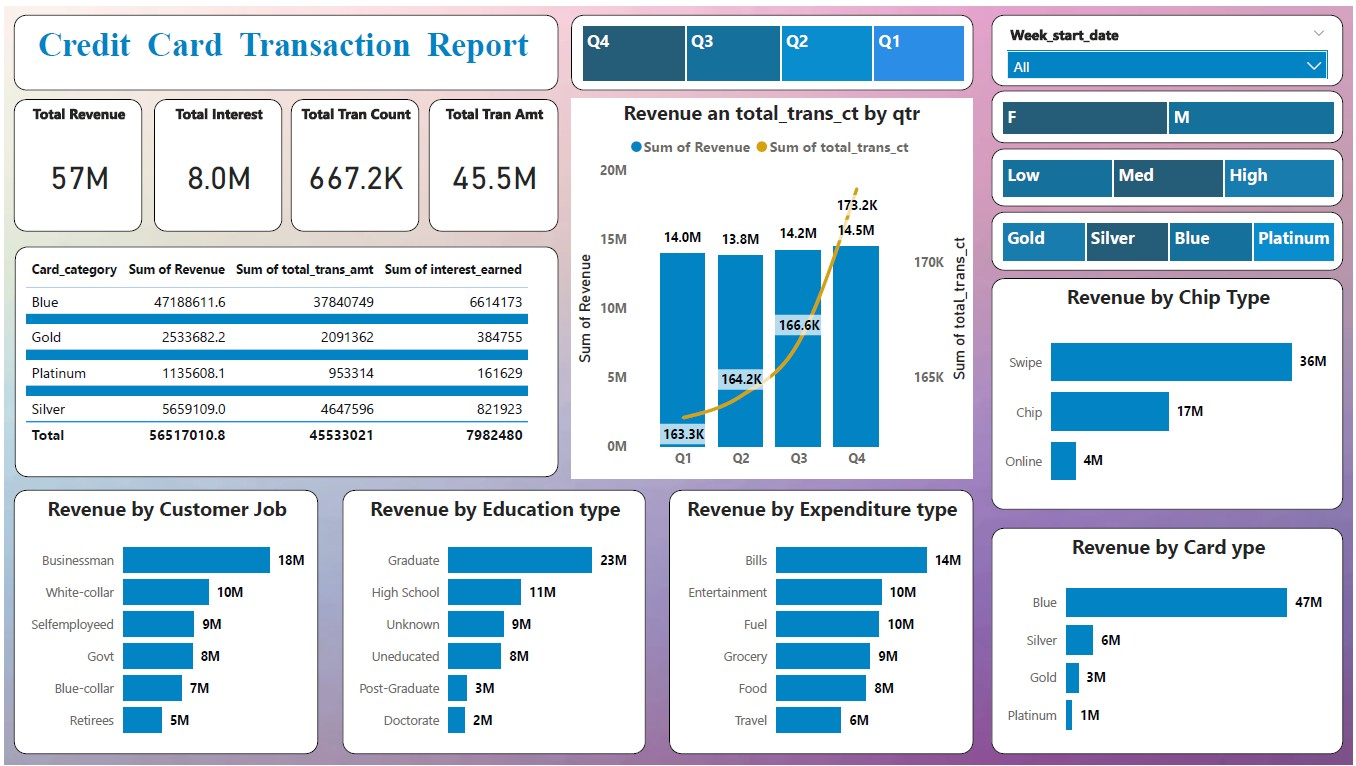

The page's visual inventory and layout, read from the dashboard file:
{"tool":"powerbi","page":{"name":"Credit_Card_Transaction_Report","canvas":[1280,720],"ordinal":1},"visuals":[{"type":"textbox","box":[9.3,8.1,516.3,72.1],"z":0},{"type":"clusteredBarChart","title":"Revenue by Expenditure type","fields":{"Y":["Sum(public cc_detail.Revenue)"],"Category":["public cc_detail.exp_type"]},"box":[631.4,459.3,288.4,251.2],"z":1000},{"type":"clusteredBarChart","title":"Revenue by Education type","fields":{"Y":["Sum(public cc_detail.Revenue)"],"Category":["public cust_detail.education_level"]},"box":[320.9,459.3,288.4,251.2],"z":2000},{"type":"clusteredBarChart","title":"Revenue by Customer Job","fields":{"Y":["Sum(public cc_detail.Revenue)"],"Category":["public cust_detail.customer_job"]},"box":[9.3,459.3,288.4,251.2],"z":3000},{"type":"clusteredBarChart","title":"Revenue by Card Type","fields":{"Y":["Sum(public cc_detail.Revenue)"],"Category":["public cc_detail.card_category"]},"box":[937.2,495.4,333.7,215.1],"z":4000},{"type":"clusteredBarChart","title":"Revenue by Chip Type","fields":{"Y":["Sum(public cc_detail.Revenue)"],"Category":["public cc_detail.use_chip"]},"box":[937.2,258,333.4,219.6],"z":5000},{"type":"tableEx","fields":{"Values":["public cc_detail.card_category","Sum(public cc_detail.Revenue)","Sum(public cc_detail.total_trans_amt)","Sum(public cc_detail.interest_earned)"]},"box":[9.6,227.8,516,219.6],"z":6000},{"type":"card","title":"Total Revenue","fields":{"Values":["Sum(public cc_detail.Revenue)"]},"box":[9.3,88.4,122.1,125.6],"z":7000},{"type":"card","title":"Total Interest","fields":{"Values":["Sum(public cc_detail.interest_earned)"]},"box":[141.9,88.4,122.1,125.6],"z":8000},{"type":"card","title":"Total Tran Count","fields":{"Values":["Sum(public cc_detail.total_trans_ct)"]},"box":[272.1,88.4,122.1,125.6],"z":9000},{"type":"card","title":"Total Tran Amt","fields":{"Values":["Sum(public cc_detail.total_trans_amt)"]},"box":[403.5,88.4,122.1,125.6],"z":10000},{"type":"treemap","fields":{"Group":["public cc_detail.qtr"],"Values":["Avg(public cc_detail.client_num)"]},"box":[538.4,8.1,381.4,72.1],"z":11000},{"type":"slicer","fields":{"Values":["public cc_detail.week_start_date"]},"box":[937.2,8.1,333.7,67.4],"z":12000},{"type":"treemap","fields":{"Group":["public cust_detail.gender"],"Values":["Avg(public cc_detail.client_num)"]},"box":[937.2,80.2,333.7,50],"z":13000},{"type":"treemap","fields":{"Group":["public cc_detail.card_category"],"Values":["Avg(public cc_detail.client_num)"]},"box":[937.2,195.3,333.7,55.8],"z":14000},{"type":"treemap","fields":{"Group":["public cust_detail.IncomeGroup"],"Values":["Avg(public cc_detail.client_num)"]},"box":[937.2,134.9,333.7,54.7],"z":15000},{"type":"lineStackedColumnComboChart","title":"Revenue an total_trans_ct by qtr","fields":{"Category":["public cc_detail.qtr"],"Y":["Sum(public cc_detail.Revenue)"],"Y2":["Sum(public cc_detail.total_trans_ct)"]},"box":[538.4,88.4,380.2,359.3],"z":16000}]}

Visuals, with their boxes in screenshot pixels (x1, y1, x2, y2), scaled from the page's 1280x720 canvas onto the 1356x766 screenshot:
textbox: <box>10,9,557,85</box>
"Revenue by Expenditure type" clusteredBarChart: <box>669,489,974,756</box>
"Revenue by Education type" clusteredBarChart: <box>340,489,645,756</box>
"Revenue by Customer Job" clusteredBarChart: <box>10,489,315,756</box>
"Revenue by Card Type" clusteredBarChart: <box>993,527,1346,756</box>
"Revenue by Chip Type" clusteredBarChart: <box>993,274,1346,508</box>
tableEx - public cc_detail.card_category x Sum(public cc_detail.Revenue): <box>10,242,557,476</box>
"Total Revenue" card: <box>10,94,139,228</box>
"Total Interest" card: <box>150,94,280,228</box>
"Total Tran Count" card: <box>288,94,418,228</box>
"Total Tran Amt" card: <box>427,94,557,228</box>
treemap - public cc_detail.qtr x Avg(public cc_detail.client_num): <box>570,9,974,85</box>
slicer - public cc_detail.week_start_date: <box>993,9,1346,80</box>
treemap - public cust_detail.gender x Avg(public cc_detail.client_num): <box>993,85,1346,139</box>
treemap - public cc_detail.card_category x Avg(public cc_detail.client_num): <box>993,208,1346,267</box>
treemap - public cust_detail.IncomeGroup x Avg(public cc_detail.client_num): <box>993,144,1346,202</box>
"Revenue an total_trans_ct by qtr" lineStackedColumnComboChart: <box>570,94,973,476</box>
